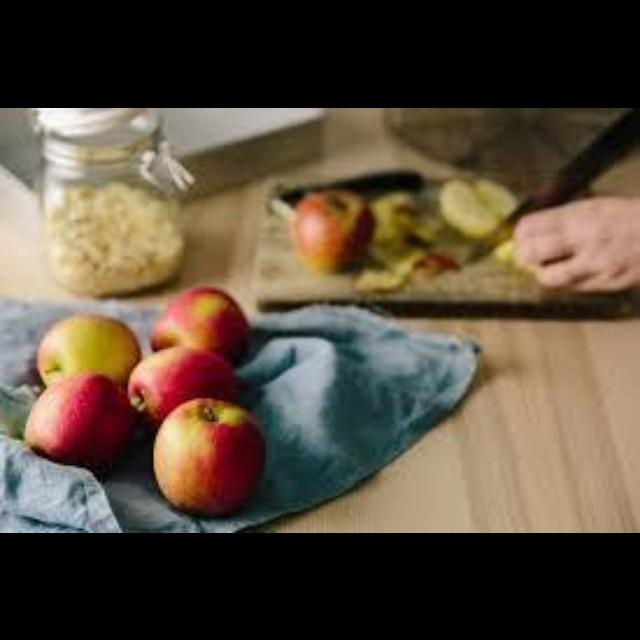apple: (154, 398, 265, 514), (23, 372, 133, 472), (128, 347, 240, 426), (37, 314, 140, 386), (151, 286, 249, 361), (291, 188, 372, 270), (440, 177, 517, 237)
